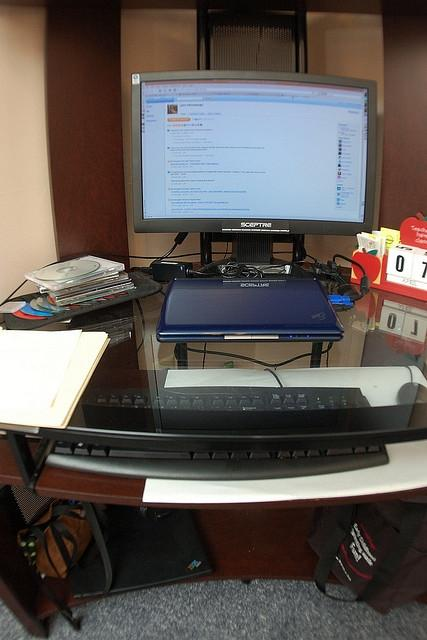apple: (400, 212, 427, 250), (352, 248, 380, 282)
